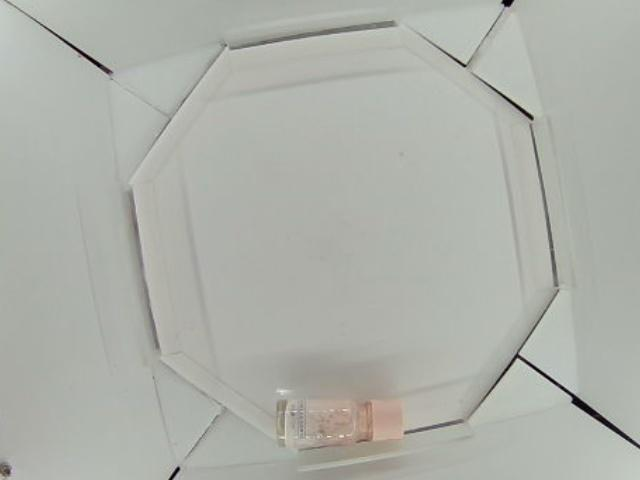Bottle: (277, 396, 404, 448)
